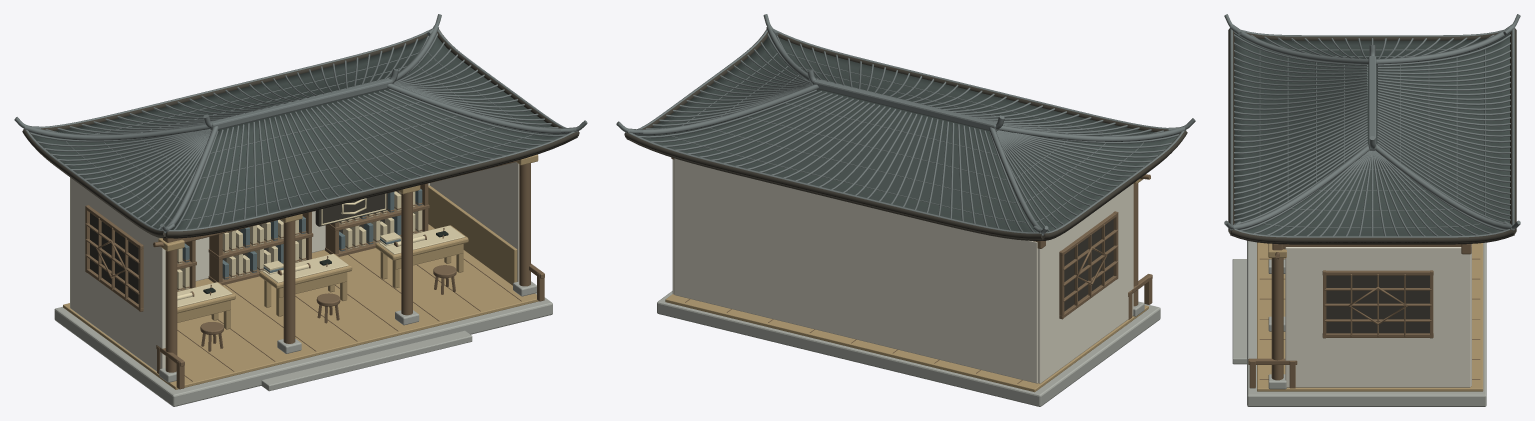
File: academy_hall.glb
3 views of the same model, side by side, from view 1: azimuth 30°, elevation 25°; view 2: azimuth 150°, elevation 25°; view 3: azimuth 270°, elevation 25° (orthographic).
Parts seen in each view (by area): view 1: academy_hall; view 2: academy_hall; view 3: academy_hall.
Part boxes in pixels (<box>): academy_hall: <box>14,14,587,406</box>; academy_hall: <box>616,14,1195,406</box>; academy_hall: <box>1224,14,1520,406</box>.
Bounding box in the file's own units: 10 × 5 × 6.
Materials: 1 (1 with a texture image).
